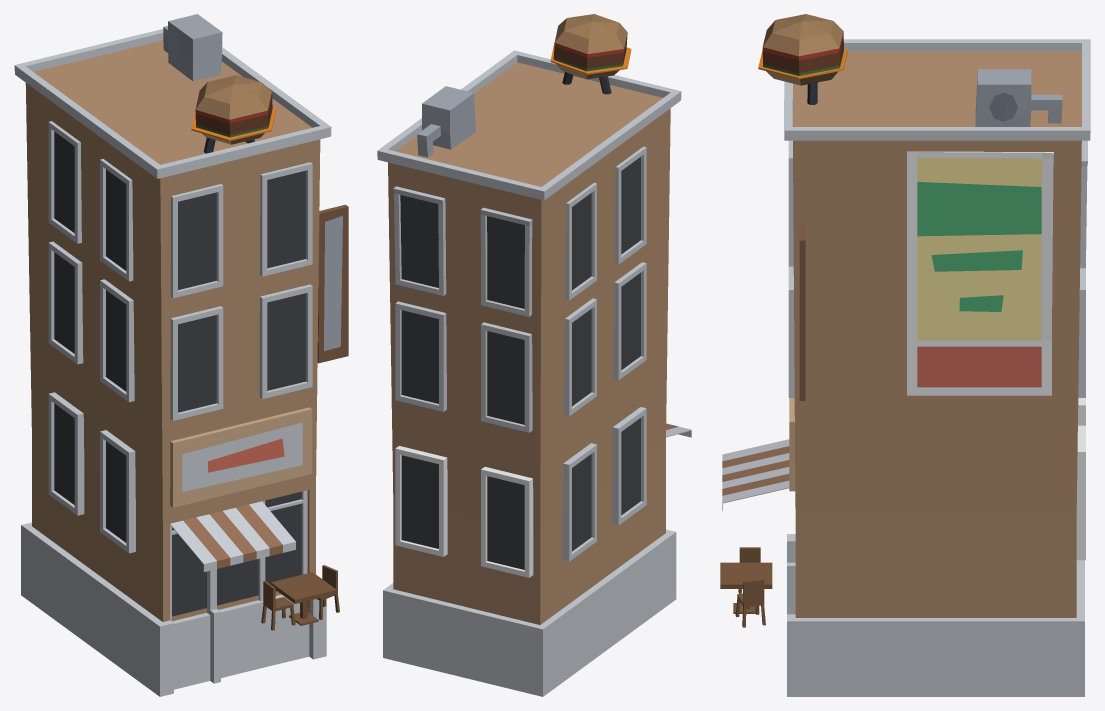
File: Building_Restaurant.fbx
3 views of the same model, side by side, from view 1: azimuth 30°, elevation 25°; view 2: azimuth 150°, elevation 25°; view 3: azimuth 270°, elevation 25° (orthographic). The views are drawn at different scales.
Parts seen in each view (by area): view 1: Building_Restaurant; view 2: Building_Restaurant; view 3: Building_Restaurant.
Boxes of the visible parts, x1,y1,x2,y2 form: Building_Restaurant: (14, 14, 348, 696); Building_Restaurant: (377, 14, 691, 696); Building_Restaurant: (720, 14, 1090, 696).
Bounding box in the file's own units: 643 × 1819 × 968.
